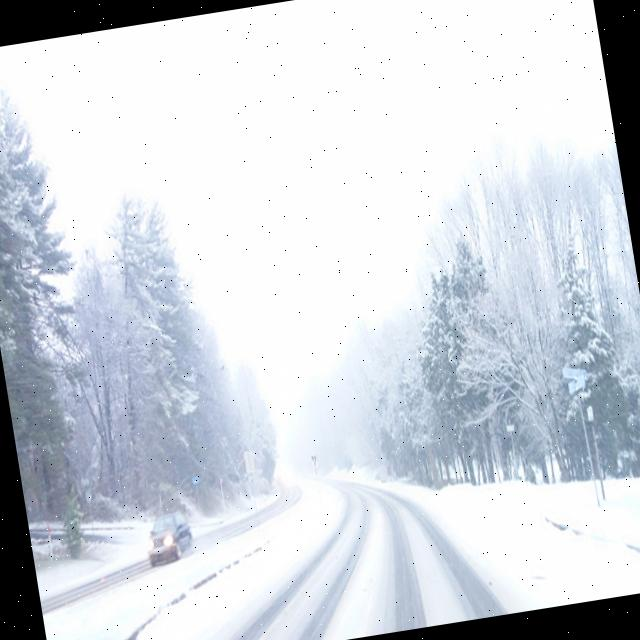car: (142, 510, 196, 568)
